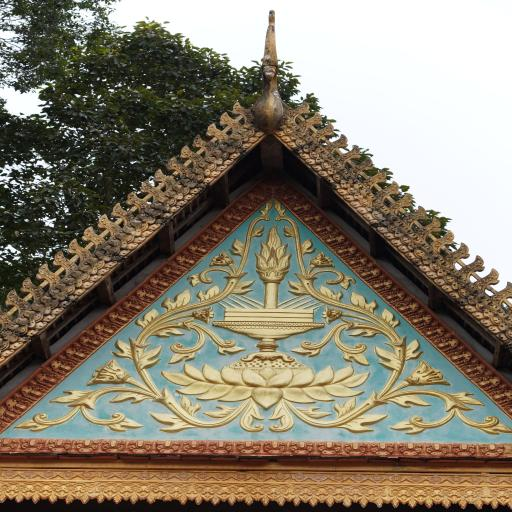hoa: (85, 359, 132, 387), (405, 360, 450, 389), (424, 484, 451, 510), (371, 484, 400, 507), (487, 485, 512, 511), (162, 482, 188, 506), (405, 486, 431, 510), (210, 484, 238, 506), (112, 480, 137, 504), (207, 252, 239, 270), (95, 480, 119, 504), (244, 484, 268, 508), (456, 484, 480, 508), (292, 485, 317, 508), (441, 485, 466, 508), (308, 485, 334, 507), (390, 486, 416, 508), (472, 487, 498, 509), (65, 480, 88, 504), (360, 484, 384, 507), (227, 484, 252, 506), (193, 484, 219, 505), (258, 486, 285, 506), (1, 482, 25, 504), (32, 480, 56, 502), (48, 480, 72, 502), (276, 486, 300, 508), (341, 487, 367, 506), (79, 480, 101, 502), (17, 481, 41, 501), (147, 482, 168, 504), (131, 483, 154, 503), (326, 486, 349, 506), (181, 483, 201, 504), (323, 308, 347, 325), (56, 470, 80, 481), (231, 471, 254, 482), (289, 471, 311, 482), (465, 474, 485, 486), (268, 472, 292, 482), (115, 470, 136, 481), (446, 475, 466, 486), (253, 471, 273, 482), (426, 474, 447, 484), (95, 470, 116, 480), (155, 471, 174, 482), (482, 475, 505, 484), (20, 470, 40, 480), (368, 474, 387, 484), (78, 470, 97, 480), (329, 474, 350, 483), (388, 474, 406, 484), (310, 472, 328, 482), (212, 472, 230, 482), (196, 472, 214, 482), (39, 471, 59, 480), (406, 476, 428, 484), (351, 473, 368, 483), (136, 471, 156, 479), (2, 470, 18, 480), (176, 473, 195, 480)
la: (149, 409, 195, 434), (268, 403, 300, 432), (158, 288, 194, 313), (48, 388, 90, 409), (9, 415, 50, 436), (107, 387, 150, 406), (102, 414, 140, 434), (372, 348, 401, 374), (139, 341, 164, 371), (260, 172, 290, 196), (343, 414, 385, 431), (130, 307, 162, 329), (200, 400, 236, 419), (78, 328, 109, 349), (349, 290, 376, 314), (134, 283, 166, 303), (388, 395, 429, 410), (46, 356, 80, 374), (442, 344, 474, 363), (175, 250, 205, 270), (94, 316, 120, 339), (107, 337, 130, 363), (345, 192, 380, 209), (468, 369, 499, 388), (64, 342, 92, 363), (161, 260, 190, 280), (150, 326, 184, 343), (451, 358, 484, 375), (388, 232, 423, 248), (342, 438, 370, 458), (363, 275, 394, 293), (221, 204, 247, 225), (478, 311, 510, 328), (323, 170, 357, 186), (220, 134, 254, 150), (6, 321, 40, 337), (20, 379, 47, 399), (404, 308, 431, 328), (390, 420, 420, 438), (36, 294, 74, 308), (390, 296, 418, 315), (356, 200, 389, 216), (111, 304, 135, 326), (228, 235, 250, 259), (426, 264, 457, 281), (429, 333, 460, 350), (374, 219, 409, 234), (433, 269, 462, 287), (418, 256, 447, 274), (118, 296, 147, 314), (259, 438, 288, 456), (120, 225, 157, 239), (210, 216, 237, 235), (310, 156, 342, 172), (34, 368, 62, 386), (418, 321, 446, 339), (380, 305, 401, 329), (315, 438, 343, 456), (449, 390, 480, 406), (380, 225, 413, 240), (29, 301, 67, 314), (302, 150, 337, 164), (244, 188, 271, 206), (196, 286, 223, 304), (299, 236, 321, 258), (178, 394, 200, 416), (97, 243, 134, 256), (366, 211, 396, 227), (195, 227, 225, 243), (182, 170, 216, 184), (70, 268, 104, 282), (352, 261, 380, 278), (292, 346, 326, 360), (212, 342, 246, 356), (44, 438, 72, 455), (6, 394, 32, 412), (188, 239, 214, 257), (234, 198, 260, 216), (318, 228, 344, 246), (379, 285, 405, 303), (486, 384, 512, 402), (476, 440, 502, 458), (411, 251, 442, 266), (404, 244, 435, 259), (450, 284, 479, 300), (168, 349, 197, 365), (152, 438, 181, 454), (366, 441, 395, 457), (463, 298, 496, 312), (147, 270, 169, 291), (316, 163, 351, 176), (209, 147, 244, 160), (128, 218, 163, 231), (61, 275, 96, 288), (441, 278, 471, 293), (0, 328, 30, 343), (307, 218, 332, 236), (396, 442, 426, 457), (472, 305, 504, 319), (458, 290, 486, 306), (361, 206, 393, 220), (334, 182, 366, 196), (329, 176, 361, 190), (478, 424, 510, 438), (486, 318, 512, 335), (14, 315, 48, 328), (402, 339, 424, 359), (398, 239, 427, 254), (300, 405, 329, 420), (241, 119, 268, 135), (205, 438, 232, 454), (449, 442, 476, 458), (424, 440, 449, 457), (342, 188, 372, 202), (292, 140, 322, 154), (188, 166, 223, 178), (23, 308, 58, 320), (340, 350, 370, 364), (144, 201, 182, 212), (184, 271, 206, 290), (170, 183, 202, 196), (164, 188, 196, 201), (156, 194, 188, 207), (19, 438, 45, 454), (0, 336, 23, 354), (299, 208, 322, 226), (344, 251, 368, 268), (332, 398, 356, 415), (350, 326, 379, 340), (179, 439, 206, 454), (298, 147, 329, 160), (104, 238, 144, 248), (202, 155, 238, 166), (86, 258, 119, 270), (46, 288, 79, 300), (73, 439, 103, 452), (235, 438, 261, 453), (278, 130, 310, 142), (317, 286, 341, 302), (196, 160, 230, 171), (56, 283, 90, 294), (0, 408, 17, 430), (332, 240, 355, 256), (338, 276, 361, 292), (80, 261, 108, 274), (102, 439, 128, 453), (284, 136, 317, 147), (215, 142, 245, 154), (229, 132, 261, 143), (178, 178, 210, 189), (140, 207, 172, 218), (137, 213, 164, 226), (93, 251, 124, 262), (234, 127, 262, 139), (128, 438, 152, 452), (289, 441, 313, 455), (288, 197, 310, 212), (275, 125, 302, 137), (0, 438, 19, 453), (278, 190, 298, 204), (280, 225, 296, 242), (252, 226, 269, 240)
lua: (228, 9, 304, 133), (49, 249, 80, 274), (320, 129, 352, 153), (444, 240, 470, 267), (388, 188, 414, 214), (431, 228, 458, 253), (1, 288, 29, 312), (374, 178, 402, 202), (33, 264, 61, 287), (457, 254, 485, 277), (17, 276, 44, 299), (150, 168, 178, 190), (401, 206, 429, 228), (79, 225, 105, 248), (96, 214, 122, 237), (109, 202, 135, 225), (163, 155, 189, 178), (139, 178, 163, 202), (288, 98, 312, 122), (180, 146, 206, 168), (363, 167, 389, 189), (350, 154, 373, 178), (65, 239, 90, 261), (418, 216, 439, 242), (192, 134, 216, 156), (299, 110, 323, 132), (474, 268, 498, 290), (216, 111, 242, 131), (312, 120, 335, 142), (124, 191, 148, 212), (230, 100, 252, 122), (338, 144, 360, 165), (205, 124, 228, 144), (495, 280, 512, 306), (0, 307, 14, 326)
